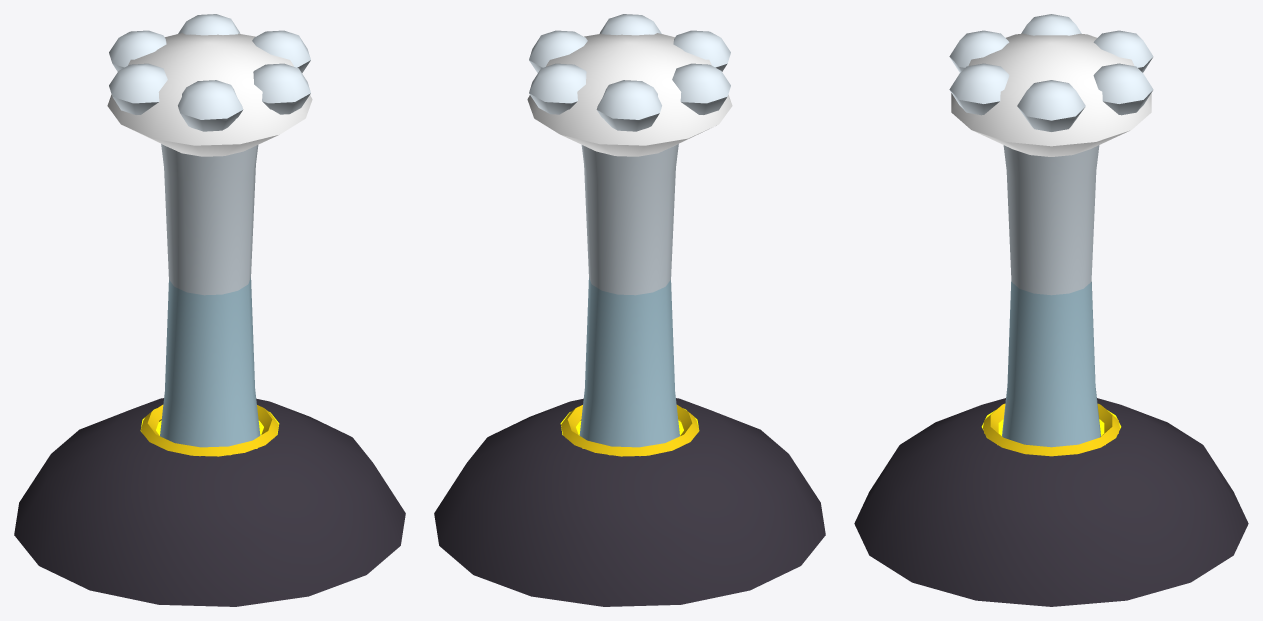
Rendered from H19_Geyser.fbx.
3 renders of one model, left to right at view 1: azimuth 30°, elevation 25°; view 2: azimuth 150°, elevation 25°; view 3: azimuth 270°, elevation 25°, orthographic.
Visible parts, largest first — view 1: Static, Plume; view 2: Static, Plume; view 3: Static, Plume.
Boxes of the visible parts, bbox=[...] form: Static: bbox=[14, 398, 405, 606]; Plume: bbox=[107, 14, 312, 447]; Static: bbox=[434, 398, 825, 606]; Plume: bbox=[527, 14, 732, 447]; Static: bbox=[854, 398, 1248, 606]; Plume: bbox=[949, 14, 1153, 447].
Size of the model in its own units: 4.8 by 6.45 by 4.8.
